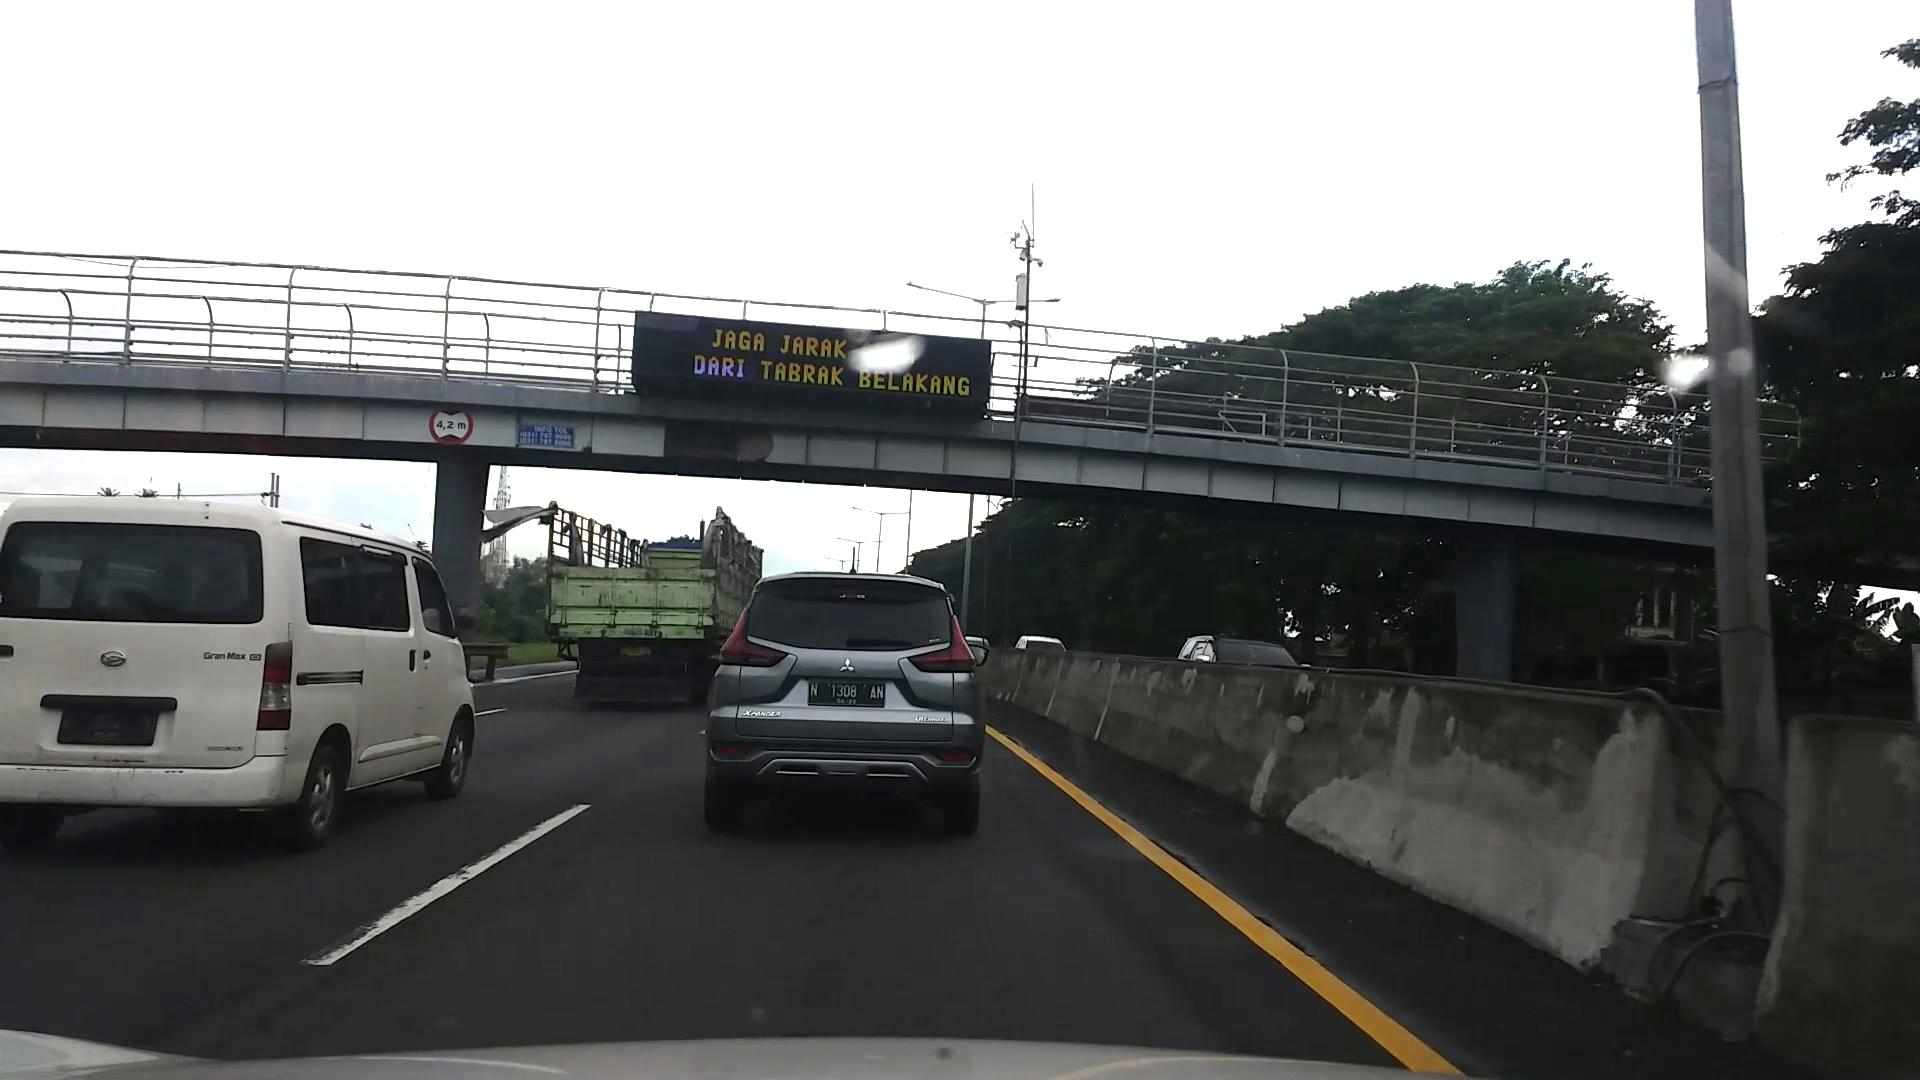plate_positive: (807, 679, 885, 708)
